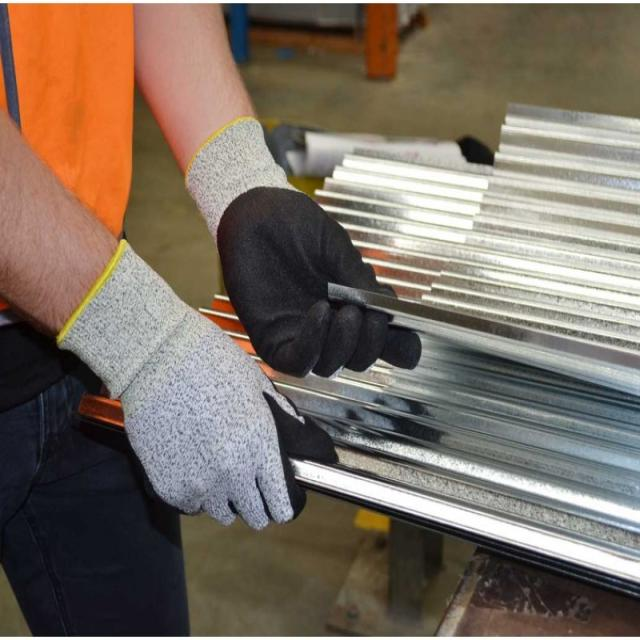gloves: (56, 240, 341, 526), (182, 115, 424, 376)
